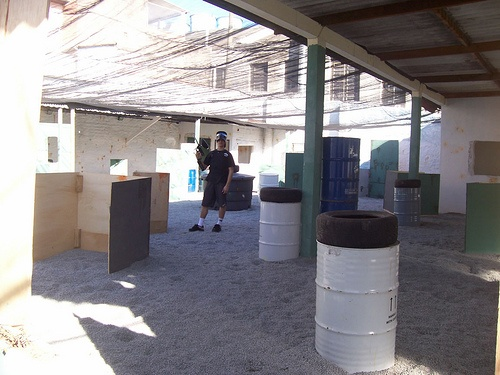head: (213, 130, 228, 150)
person: (188, 129, 235, 231)
